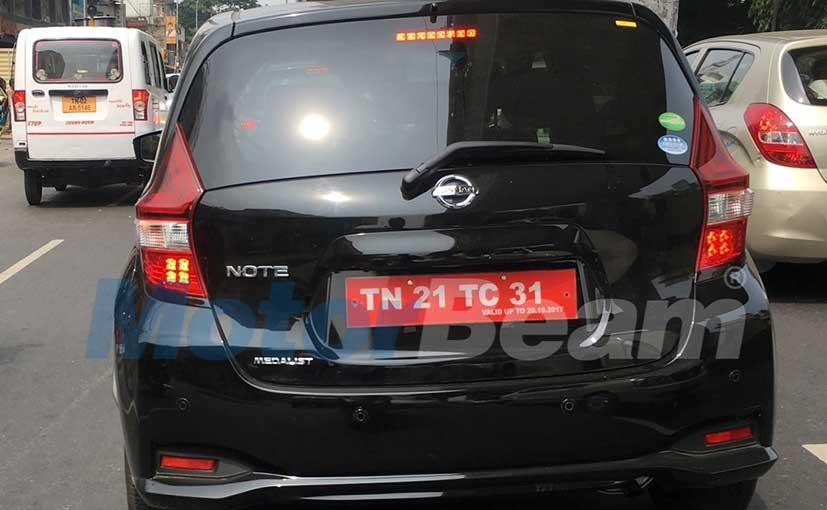License-Plate: (343, 274, 580, 322)
